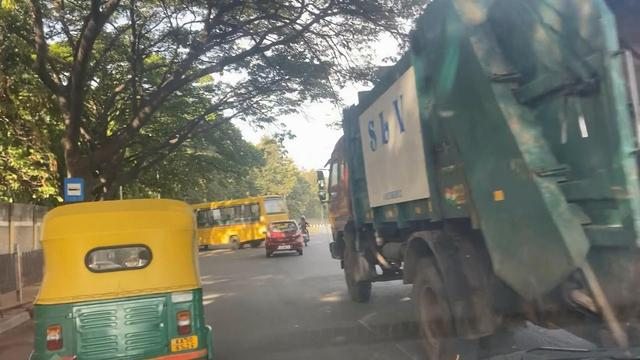HMV: (334, 0, 640, 360)
LMV: (33, 198, 202, 360)
